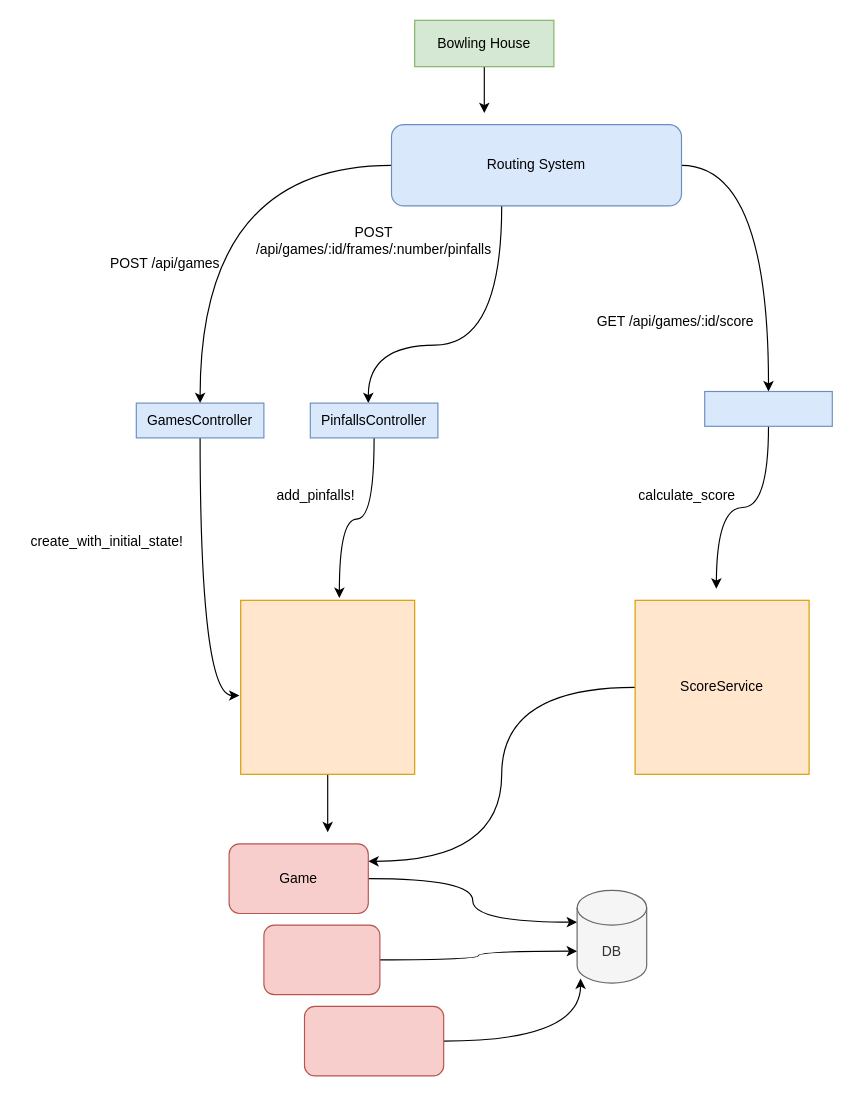
This 853x1096 diagram has some shape labels left out. Each missing label, with the centre of its shape:
"Ball" belongs at point 373,1040.
"Frame" belongs at point 321,959.
"GameService" belongs at point 327,686.
"ScoresController" belongs at point 768,408.
